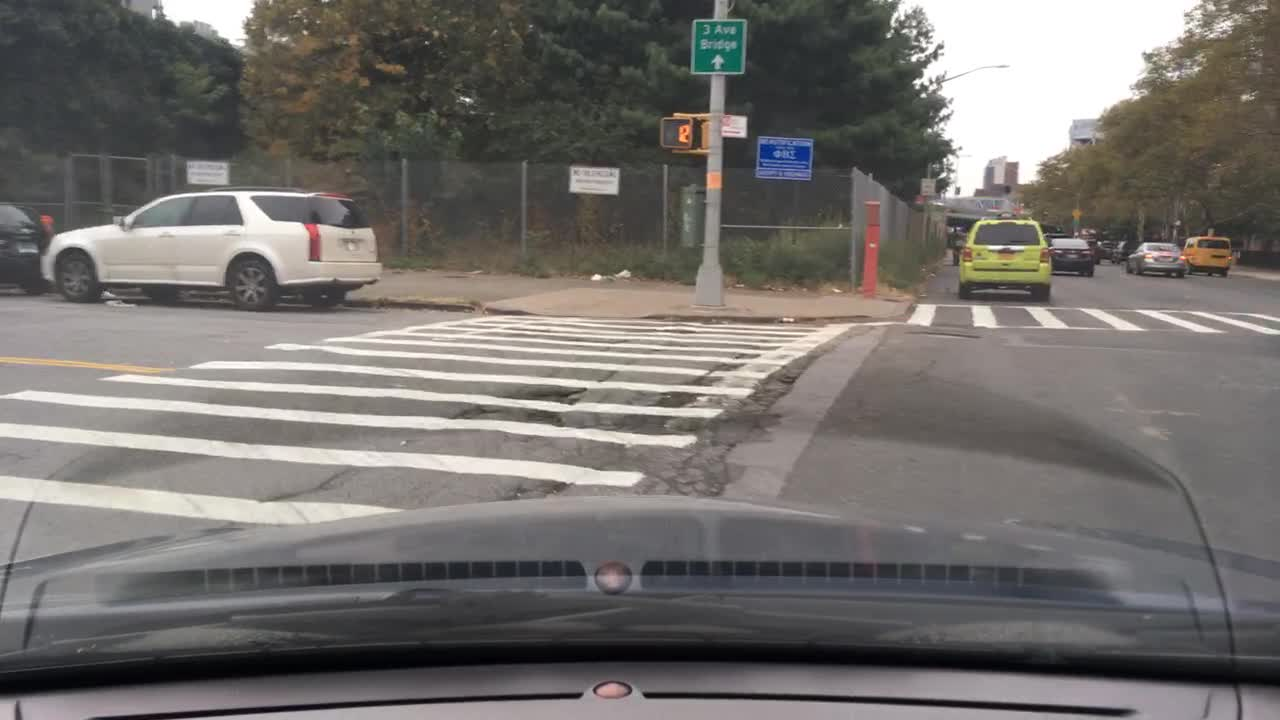car: (35, 189, 381, 309), (956, 212, 1050, 301), (0, 198, 58, 296), (1123, 238, 1183, 273), (1050, 235, 1097, 275), (1180, 235, 1230, 271), (1105, 238, 1140, 266), (950, 229, 973, 263), (1042, 231, 1071, 241), (1093, 240, 1111, 255)
traffic light: (661, 116, 690, 154), (698, 119, 708, 151)
traffic sign: (690, 18, 744, 73), (756, 134, 809, 180), (572, 166, 620, 192), (186, 163, 226, 185), (719, 119, 748, 137), (920, 176, 935, 194), (1070, 203, 1082, 221)
